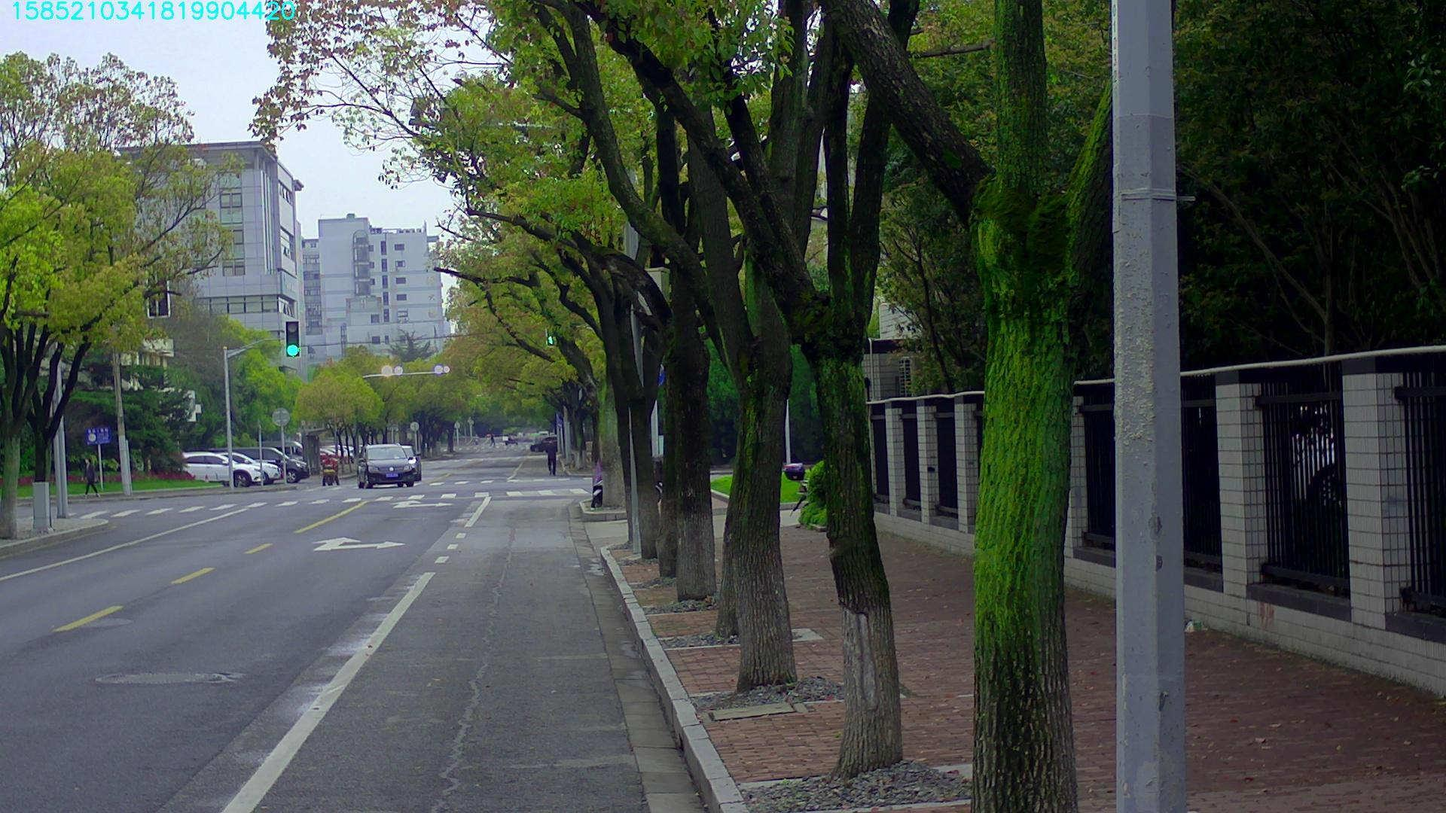green: (285, 320, 299, 357), (545, 313, 557, 346)
